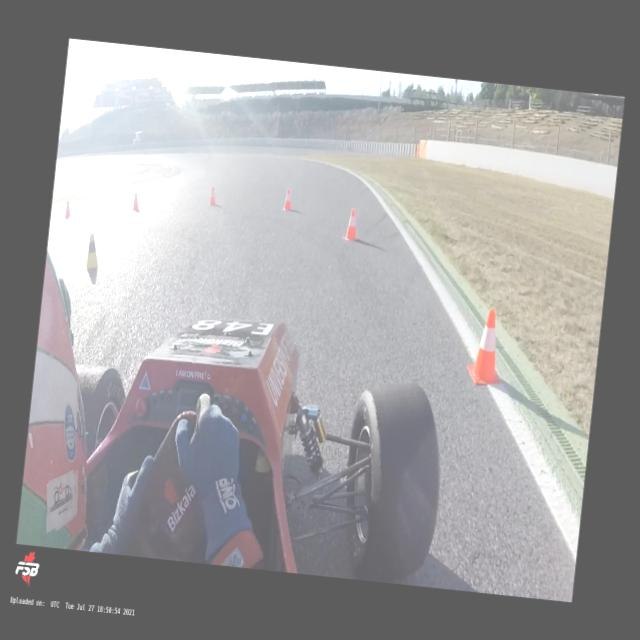orange_cone: (464, 306, 508, 386), (342, 208, 361, 242), (282, 188, 294, 211), (208, 185, 218, 206), (132, 192, 142, 212), (64, 200, 72, 218)
yellow_cone: (84, 232, 102, 270)
